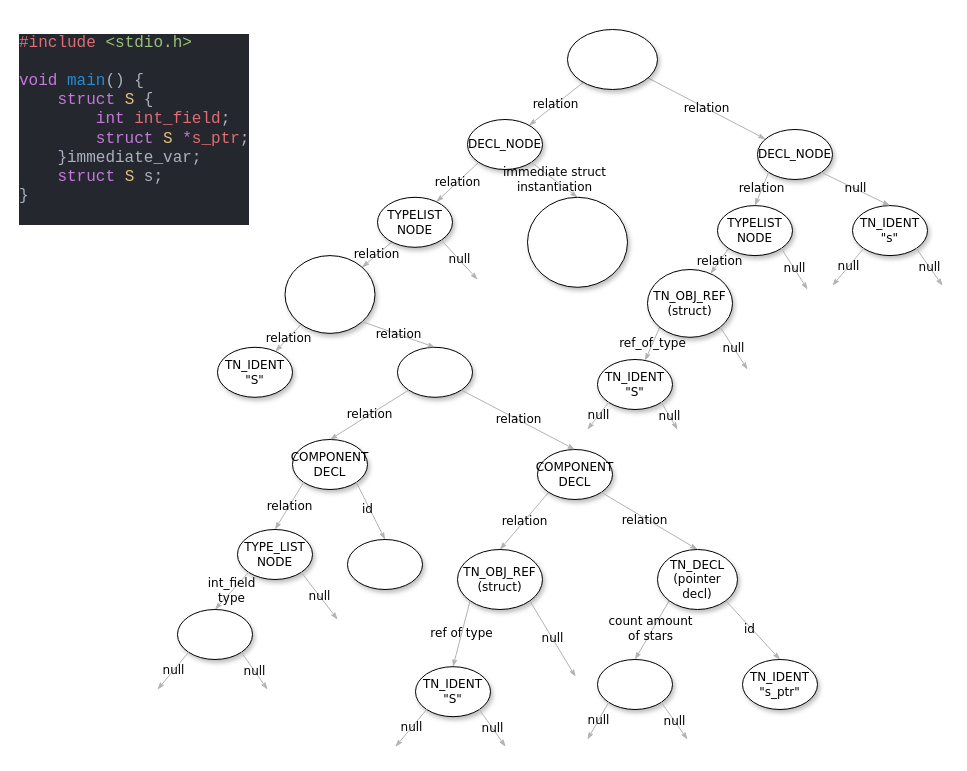
The diagram is 967 pixels wide and 771 high, and some of its shapes have lost their labels. Each missing label, with the centre of its shape:
FIELD_LIST NODE: [435,373]
TN_DECL_LIST: [613,60]
TN_IDENT "immediate_var": [578,243]
TN_IDENT "int_field": [385,565]
TN_OBJ_DEF tok=304 struct: [330,295]
TN_PNTR: [635,685]
TN_TYPE "INT": [215,635]
